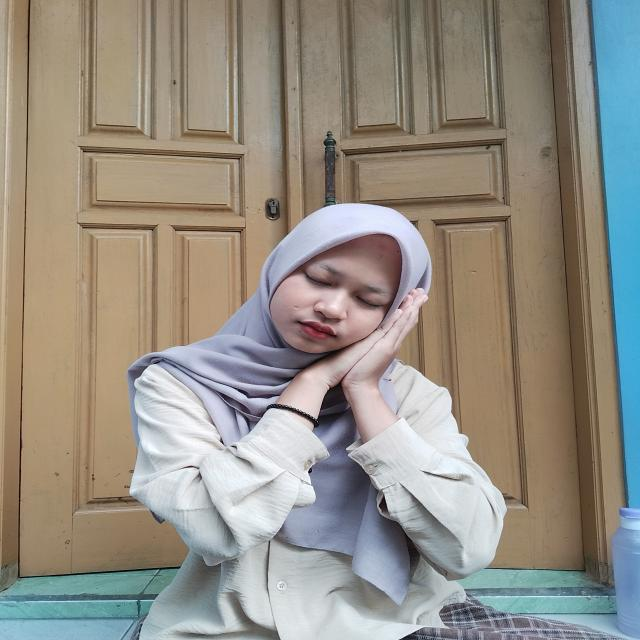tidur: (251, 284, 439, 442)
